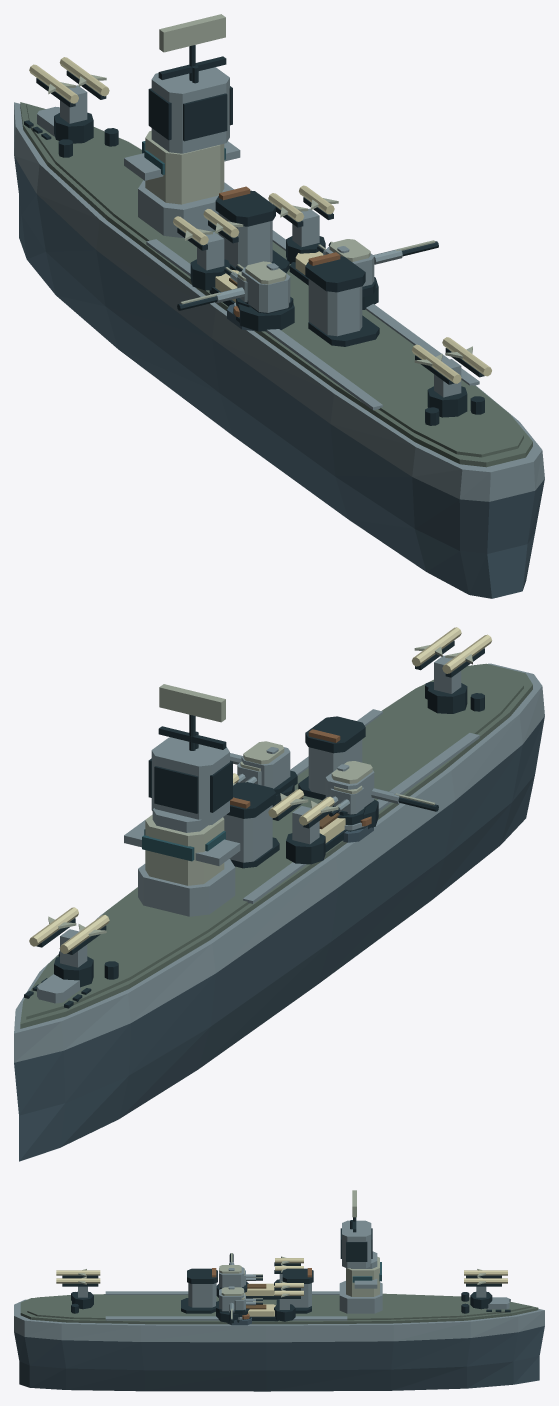
Rendered from historic-albany.glb.
3 views of the same model, one above another, from view 1: azimuth 30°, elevation 25°; view 2: azimuth 150°, elevation 25°; view 3: azimuth 270°, elevation 25° (orthographic). The views are drawn at different scales.
Parts seen in each view (by area): view 1: historic-albany-historic-albany-geometry, historic-albany-part_bridge.109-geometry, historic-albany-historic_funnel_1.057-geometry, historic-albany-turret_main_0.080-geometry, historic-albany-historic_funnel_0.107-geometry, historic-albany-naval_launcher_0.003-geometry, historic-albany-naval_launcher_1.001-geometry, historic-albany-naval_launcher_2-geometry, historic-albany-naval_launcher_3-geometry, historic-albany-turret_main_1.075-geometry; view 2: historic-albany-historic-albany-geometry, historic-albany-part_bridge.109-geometry, historic-albany-historic_funnel_0.107-geometry, historic-albany-naval_launcher_1.001-geometry, historic-albany-historic_funnel_1.057-geometry, historic-albany-naval_launcher_0.003-geometry, historic-albany-naval_launcher_2-geometry, historic-albany-turret_main_0.080-geometry, historic-albany-turret_main_1.075-geometry, historic-albany-turret_aa_aa-port.111-geometry; view 3: historic-albany-historic-albany-geometry, historic-albany-part_bridge.109-geometry, historic-albany-historic_funnel_1.057-geometry, historic-albany-naval_launcher_0.003-geometry, historic-albany-naval_launcher_1.001-geometry, historic-albany-historic_funnel_0.107-geometry, historic-albany-naval_launcher_3-geometry, historic-albany-turret_main_1.075-geometry, historic-albany-turret_main_0.080-geometry, historic-albany-naval_launcher_2-geometry, historic-albany-turret_aa_aa-starboard.107-geometry.
Boxes of the visible parts, x1,y1,x2,y2 form: historic-albany-historic-albany-geometry: [14, 102, 544, 598]; historic-albany-part_bridge.109-geometry: [124, 14, 240, 237]; historic-albany-historic_funnel_1.057-geometry: [305, 252, 379, 346]; historic-albany-turret_main_0.080-geometry: [177, 261, 294, 331]; historic-albany-historic_funnel_0.107-geometry: [215, 186, 289, 273]; historic-albany-naval_launcher_0.003-geometry: [29, 57, 109, 143]; historic-albany-naval_launcher_1.001-geometry: [412, 337, 491, 417]; historic-albany-naval_launcher_2-geometry: [173, 209, 243, 290]; historic-albany-naval_launcher_3-geometry: [268, 185, 338, 263]; historic-albany-turret_main_1.075-geometry: [325, 239, 438, 309]; historic-albany-historic-albany-geometry: [14, 663, 544, 1161]; historic-albany-part_bridge.109-geometry: [124, 684, 240, 916]; historic-albany-historic_funnel_0.107-geometry: [223, 782, 279, 868]; historic-albany-naval_launcher_1.001-geometry: [412, 627, 491, 713]; historic-albany-historic_funnel_1.057-geometry: [298, 716, 365, 799]; historic-albany-naval_launcher_0.003-geometry: [29, 907, 109, 987]; historic-albany-naval_launcher_2-geometry: [268, 789, 338, 864]; historic-albany-turret_main_0.080-geometry: [318, 761, 438, 827]; historic-albany-turret_main_1.075-geometry: [230, 741, 297, 806]; historic-albany-turret_aa_aa-port.111-geometry: [328, 785, 365, 825]; historic-albany-historic-albany-geometry: [14, 1283, 544, 1391]; historic-albany-part_bridge.109-geometry: [339, 1190, 382, 1313]; historic-albany-historic_funnel_1.057-geometry: [181, 1268, 217, 1313]; historic-albany-naval_launcher_0.003-geometry: [464, 1269, 507, 1309]; historic-albany-naval_launcher_1.001-geometry: [56, 1269, 100, 1309]; historic-albany-historic_funnel_0.107-geometry: [276, 1268, 313, 1313]; historic-albany-naval_launcher_3-geometry: [274, 1281, 303, 1321]; historic-albany-turret_main_1.075-geometry: [216, 1286, 244, 1323]; historic-albany-turret_main_0.080-geometry: [216, 1253, 247, 1297]; historic-albany-naval_launcher_2-geometry: [274, 1256, 303, 1285]; historic-albany-turret_aa_aa-starboard.107-geometry: [233, 1293, 262, 1317].
Size of the model in its own units: 1.29 by 1.63 by 4.32.
